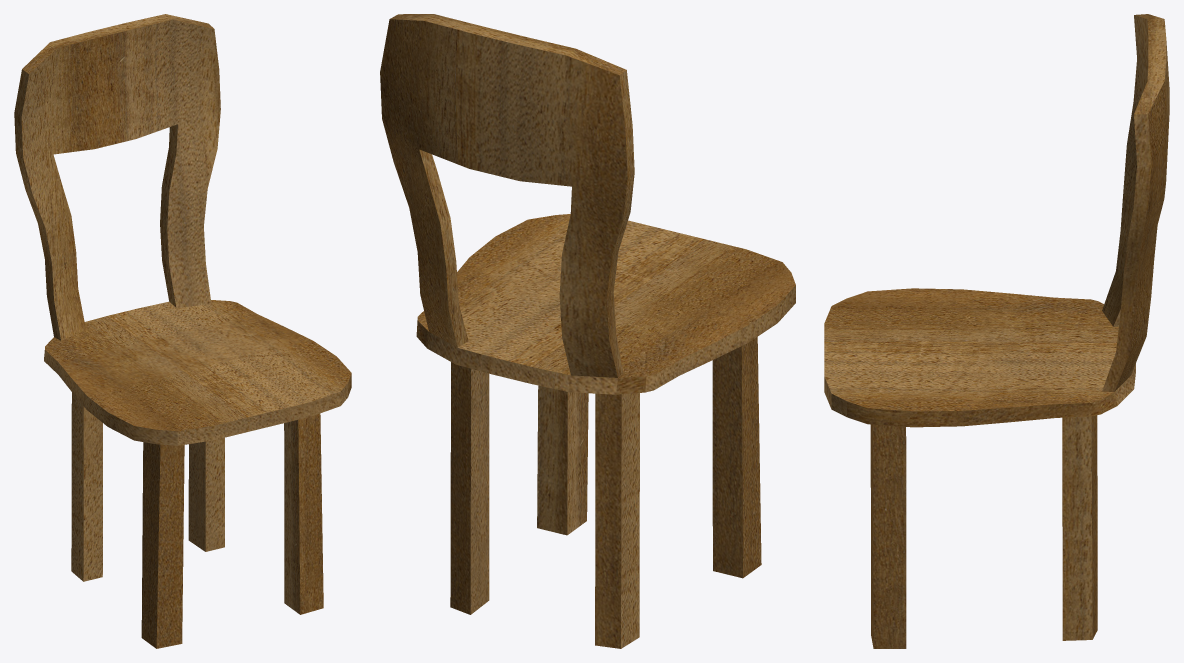
The model's file is tool.fbx.
3 renders of one model, left to right at view 1: azimuth 30°, elevation 25°; view 2: azimuth 150°, elevation 25°; view 3: azimuth 270°, elevation 25°, orthographic. The views are drawn at different scales.
Visible parts, largest first — view 1: tool; view 2: tool; view 3: tool.
Boxes of the visible parts, x1,y1,x2,y2 form: tool: (14,14,351,648); tool: (380,14,795,648); tool: (824,14,1169,648).
Size of the model in its own units: 489 by 1029 by 581.
Materials: 1 (1 with a texture image).
